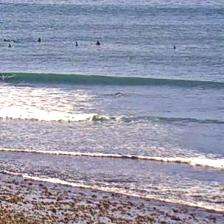surfer: (12, 40, 20, 44), (96, 41, 100, 46), (115, 92, 123, 94), (8, 44, 12, 48), (38, 38, 41, 42), (4, 39, 10, 41), (76, 42, 78, 46), (174, 46, 176, 49)
